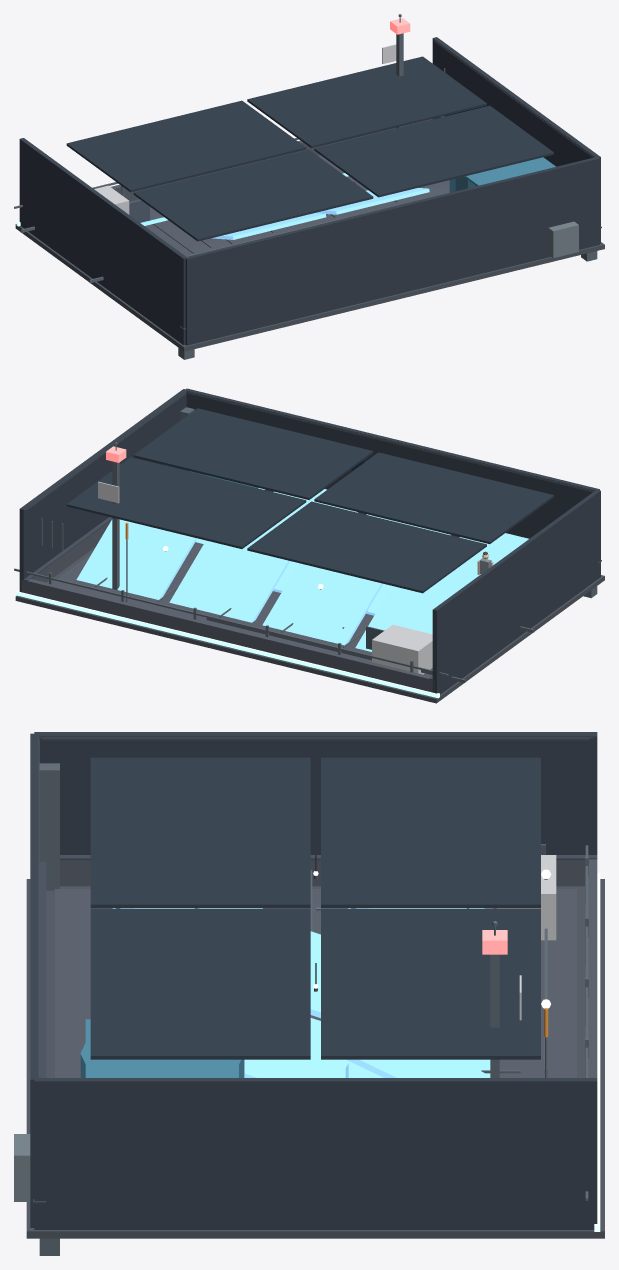
The model's file is floor-rooftop.glb.
3 views of the same model, one above another, from view 1: azimuth 30°, elevation 25°; view 2: azimuth 150°, elevation 25°; view 3: azimuth 270°, elevation 25° (orthographic). The views are drawn at different scales.
Parts seen in each view (by area): view 1: WallBack_rooftop, WallL_rooftop, Coffer_-1_-1_rooftop, Coffer_-1_1_rooftop, Coffer_1_-1_rooftop, Coffer_1_1_rooftop, WallR_rooftop, RoofDeck, IntFloor_rooftop, WalkwayGrate, ReservoirLid, EquipCab0 (+3 smaller); view 2: WallL_rooftop, Coffer_-1_-1_rooftop, Coffer_1_-1_rooftop, Coffer_-1_1_rooftop, Coffer_1_1_rooftop, WallBack_rooftop, WallR_rooftop, ParapetFront, Solar_1_2, Solar_1_1, Solar_1_3, RoofDeck (+12 smaller); view 3: WallR_rooftop, Coffer_-1_-1_rooftop, Coffer_-1_1_rooftop, Coffer_1_-1_rooftop, Coffer_1_1_rooftop, WallL_rooftop, IntFloor_rooftop, RoofDeck, WallBack_rooftop, ReservoirLid, SolarCenter_1, Post_rooftop_-1 (+12 smaller).
Boxes of the visible parts, x1,y1,x2,y2 form: WallBack_rooftop: (185,156,599,345); WallL_rooftop: (19,138,185,345); Coffer_-1_-1_rooftop: (133,150,373,241); Coffer_-1_1_rooftop: (66,100,306,192); Coffer_1_-1_rooftop: (314,105,553,197); Coffer_1_1_rooftop: (247,56,486,148); WallR_rooftop: (432,37,600,243); RoofDeck: (15,155,604,351); IntFloor_rooftop: (140,156,449,255); WalkwayGrate: (179,185,449,255); ReservoirLid: (465,157,555,185); EquipCab0: (548,221,578,258); WallL_rooftop: (432,489,600,694); Coffer_-1_-1_rooftop: (314,452,553,544); Coffer_1_-1_rooftop: (133,408,373,499); Coffer_-1_1_rooftop: (247,501,486,593); Coffer_1_1_rooftop: (66,457,306,548); WallBack_rooftop: (185,388,599,538); WallR_rooftop: (19,389,186,592); ParapetFront: (21,579,434,692); Solar_1_2: (169,539,290,622); Solar_1_1: (262,563,382,645); Solar_1_3: (76,519,197,599); RoofDeck: (15,547,604,703); WallR_rooftop: (34,1078,597,1229); Coffer_-1_-1_rooftop: (90,757,310,908); Coffer_-1_1_rooftop: (321,757,540,908); Coffer_1_-1_rooftop: (90,909,310,1059); Coffer_1_1_rooftop: (321,909,540,1059); WallL_rooftop: (34,732,597,854); IntFloor_rooftop: (55,889,576,1077); RoofDeck: (26,879,604,1238); WallBack_rooftop: (30,733,38,1227); ReservoirLid: (85,1019,238,1077); SolarCenter_1: (244,1018,383,1077); Post_rooftop_-1: (39,763,59,890).
Size of the model in its own units: 17 by 6.06 by 11.55.
